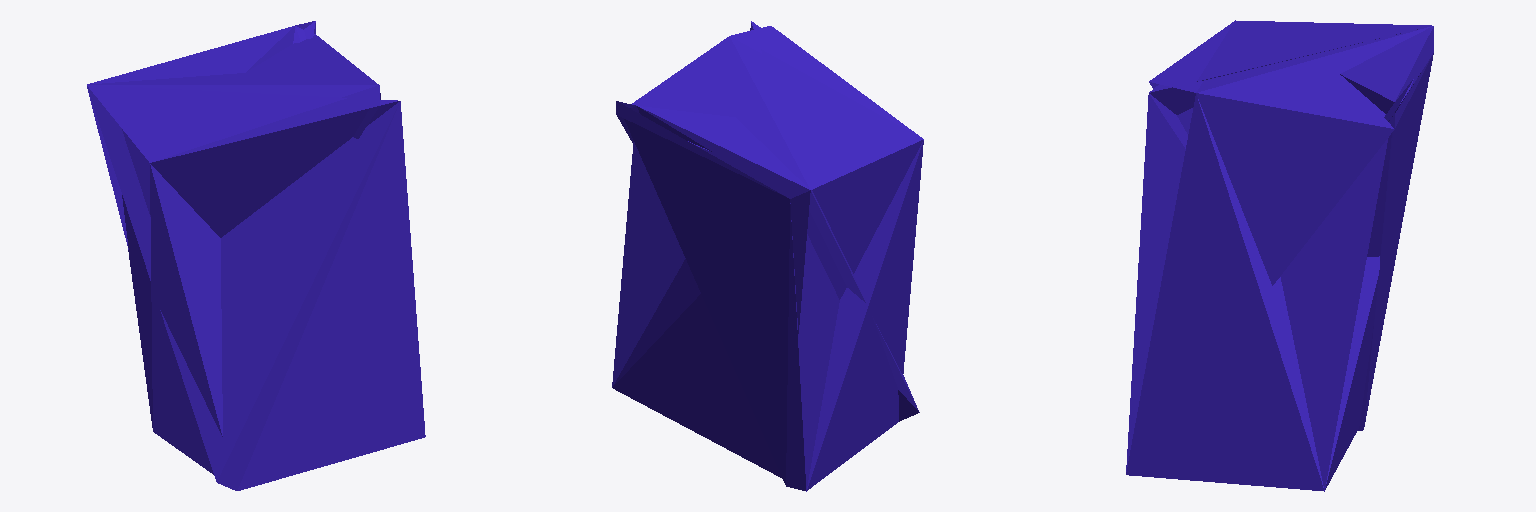
robot.urdf — zonopy_mesh_step7_link5_num3.obj:
<robot name="zonopy_mesh_step7_link5_num3.obj">
	<link name="link0">
		<visual>
			<origin xyz="0 0 0" rpy="0 0 0" />
			<geometry>
				<mesh filename="zonopy_mesh_step7_link5_num3.obj" scale="1.0 1.0 1.0" />
			</geometry>
			<material name="texture">
				<color rgba="0.3 0.2 0.8 0.5" />
			</material>
		</visual>
		<inertial>
			<mass value="0" />
			<inertia ixx="0.0" ixy="0.0" ixz="0.0" iyy="0.0" iyz="0.0" izz="0.0" />
		</inertial>
	<collision><geometry><mesh filename="zonopy_mesh_step7_link5_num3.obj" /></geometry></collision></link>
</robot>

--- What the picture shows (computed from the rendered views, not written in the file) ---
Views: 3 orthographic renders of the robot side by side, from view 1: azimuth 30°, elevation 25°; view 2: azimuth 150°, elevation 25°; view 3: azimuth 270°, elevation 25°.
Robot: zonopy_mesh_step7_link5_num3.obj — 1 links, 0 joints (none); root link link0; default pose: all joints at 0.
Links seen in each view (by area): view 1: link0; view 2: link0; view 3: link0.
Boxes of the visible links, <box> form: link0: <box>87,21,425,490</box>; link0: <box>612,21,923,491</box>; link0: <box>1126,20,1433,491</box>.
Size in the robot's own frame: 0.1227 by 0.107 by 0.1568 metres.
1 mesh visuals loaded from 1 distinct referenced files (1 OBJ).